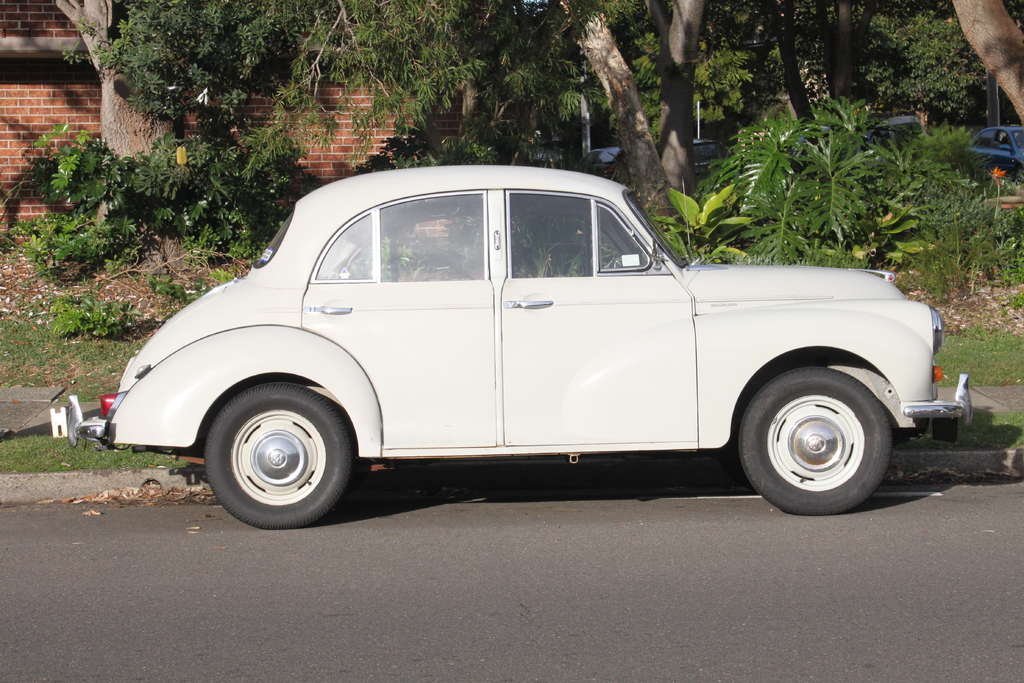Car: (78, 171, 937, 526), (970, 129, 1023, 176), (582, 144, 634, 185), (691, 133, 738, 178)
